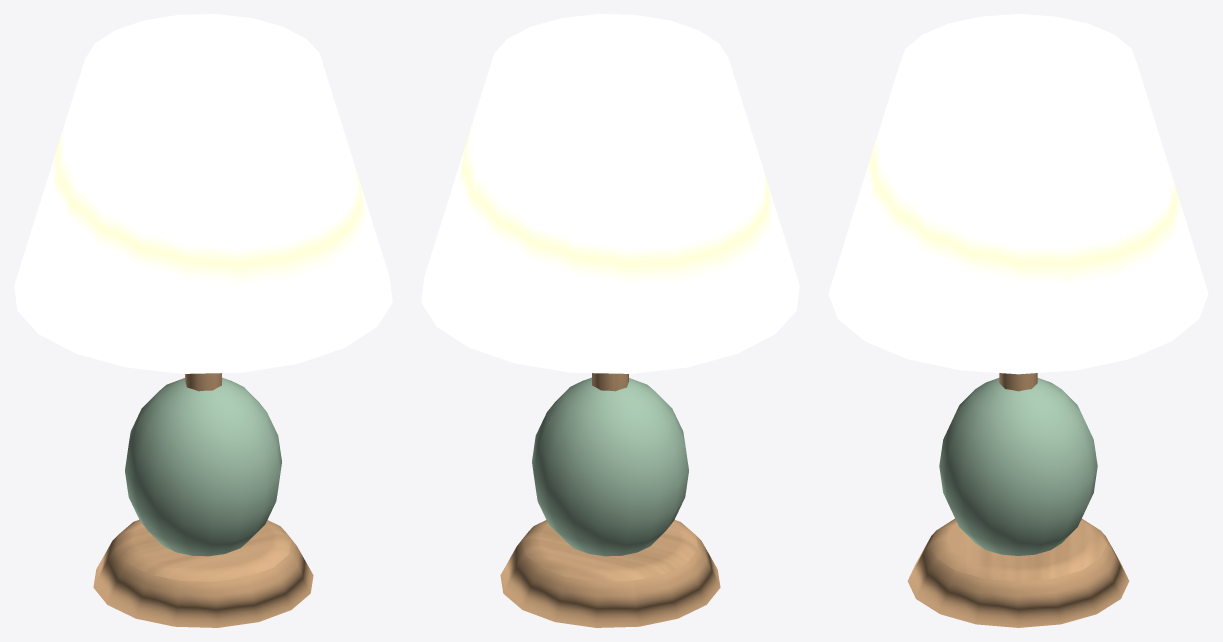
File: prop_table_lamp.glb
3 views of the same model, side by side, from view 1: azimuth 30°, elevation 25°; view 2: azimuth 150°, elevation 25°; view 3: azimuth 270°, elevation 25° (orthographic).
Parts seen in each view (by area): view 1: prop_table_lamp; view 2: prop_table_lamp; view 3: prop_table_lamp.
Part boxes in pixels (<box>): prop_table_lamp: <box>14,14,392,627</box>; prop_table_lamp: <box>421,14,799,627</box>; prop_table_lamp: <box>828,14,1208,627</box>.
Size of the model in its own units: 0.3 by 0.45 by 0.3.
Materials: 3 (1 with a texture image).
